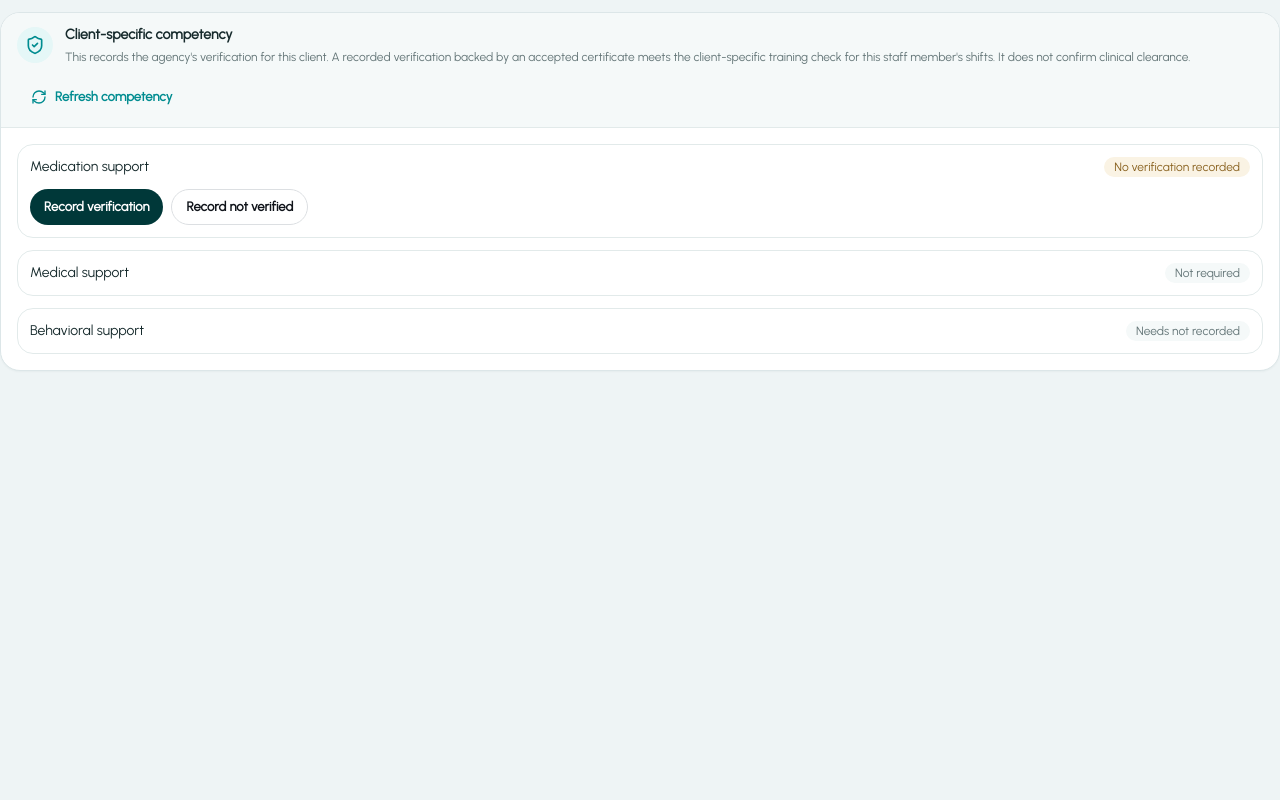
Scenario: keeps basis on service failure and sends no evidence for a not-verified review
Click the button with aria-label "Record not verified for Medication support" at coordinates (240, 207), box 171,189 -> 308,225
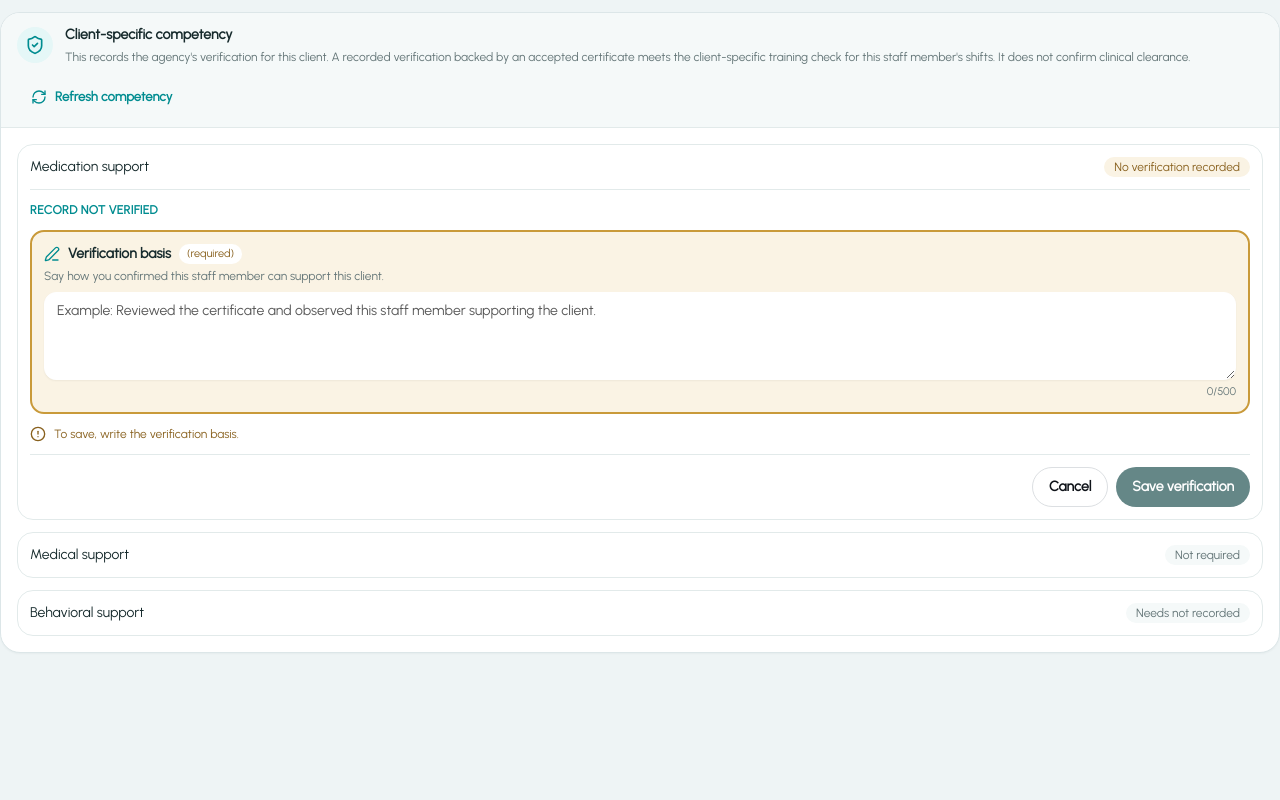
Replace the text in the text box labelled "Verification basis (required)" with "Evidence does not address client needs" at coordinates (640, 336), box 44,292 -> 1236,380
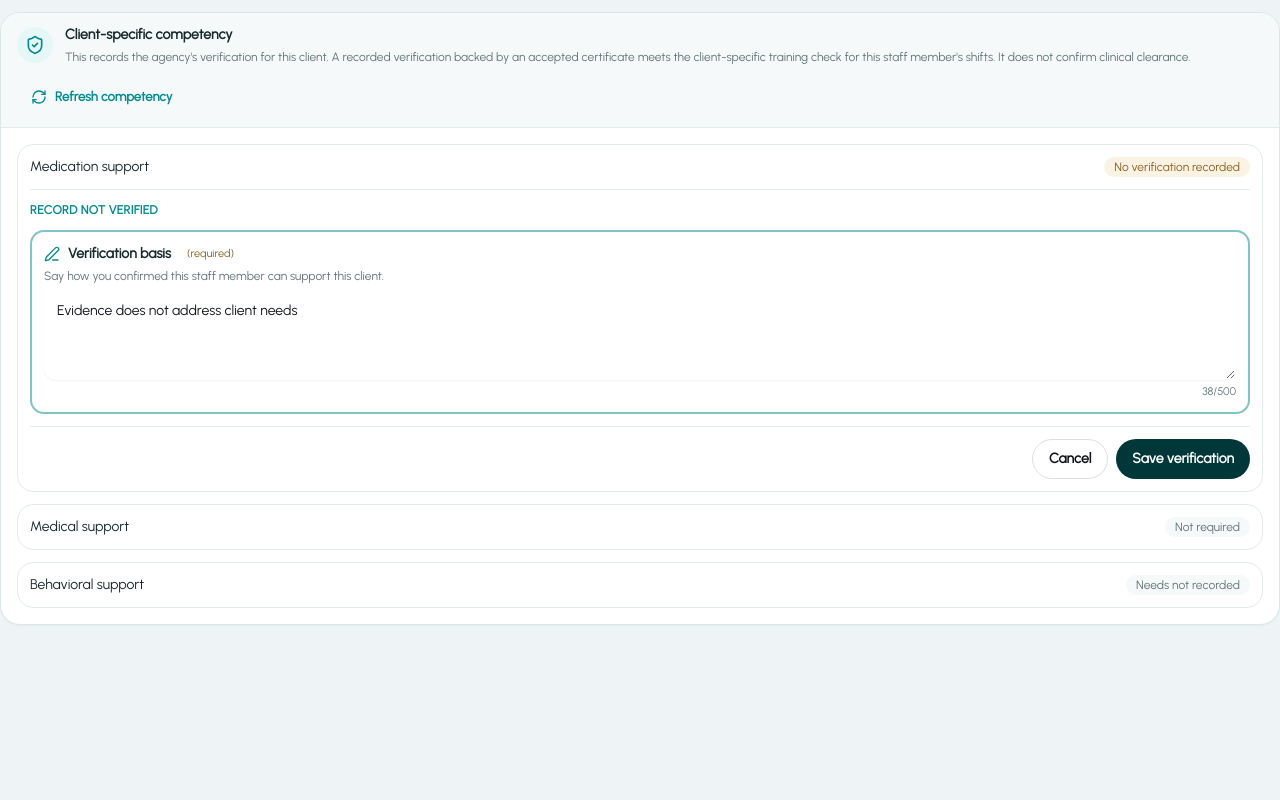
Click the button "Save verification" at coordinates (1183, 459), box 1116,439 -> 1250,479
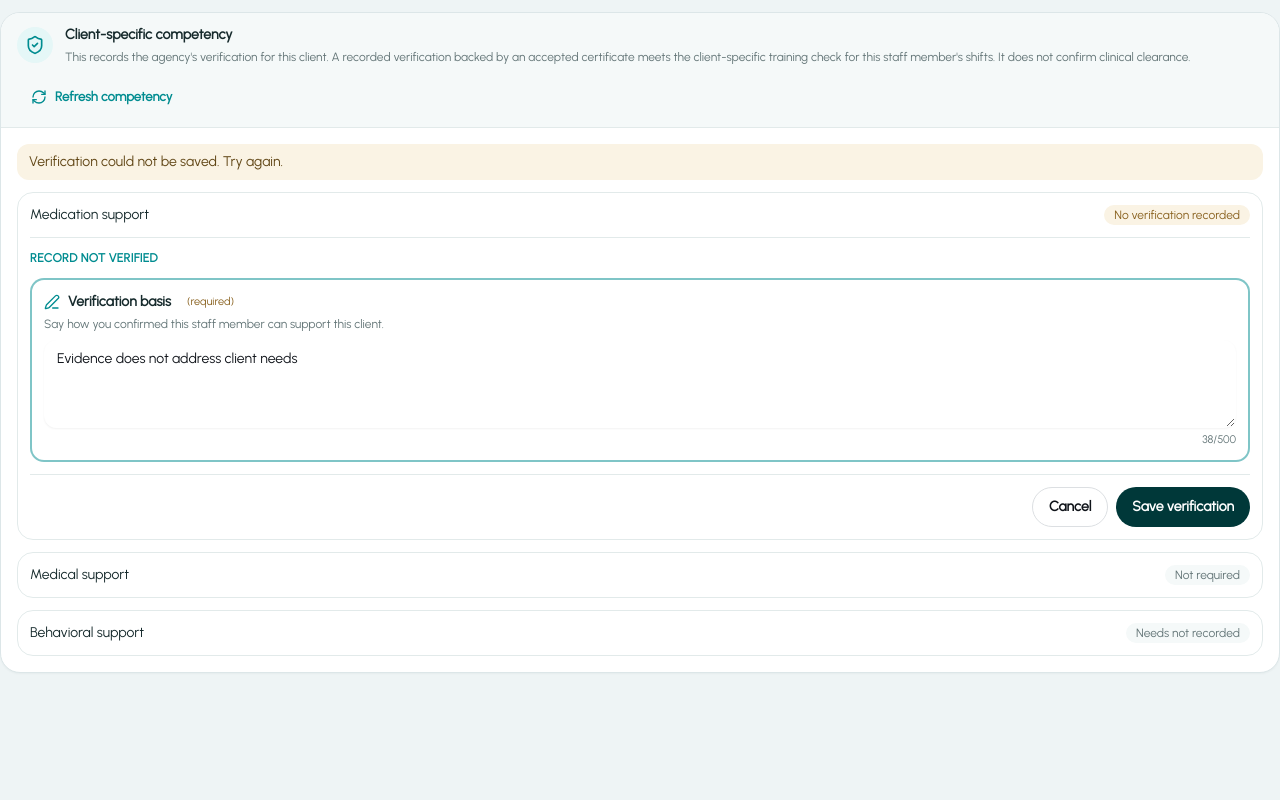
Now the text "Verification could not be saved. Try again." is shown, box 17,144 -> 1263,180
